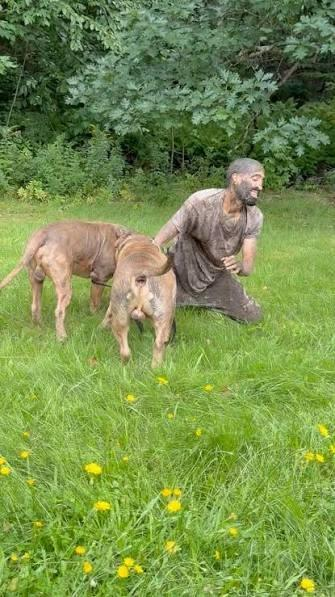adult_dog: (0, 218, 122, 343), (103, 229, 182, 369)
non-dog: (150, 154, 268, 347)
